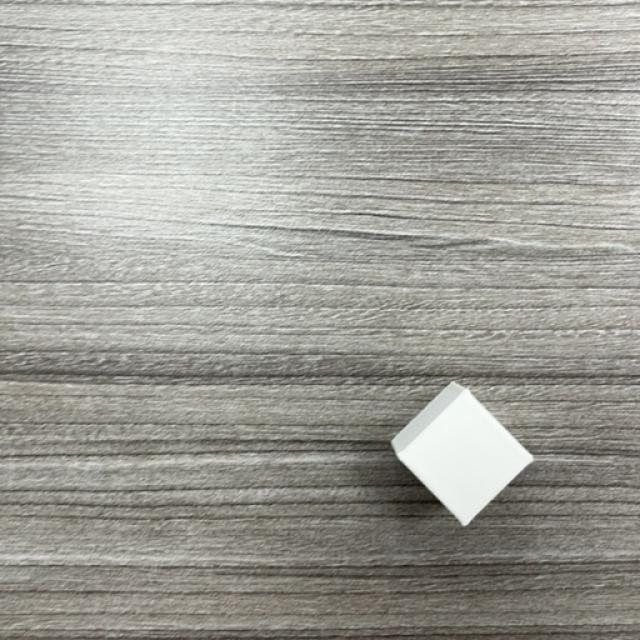Blanco: (389, 382, 535, 528)
